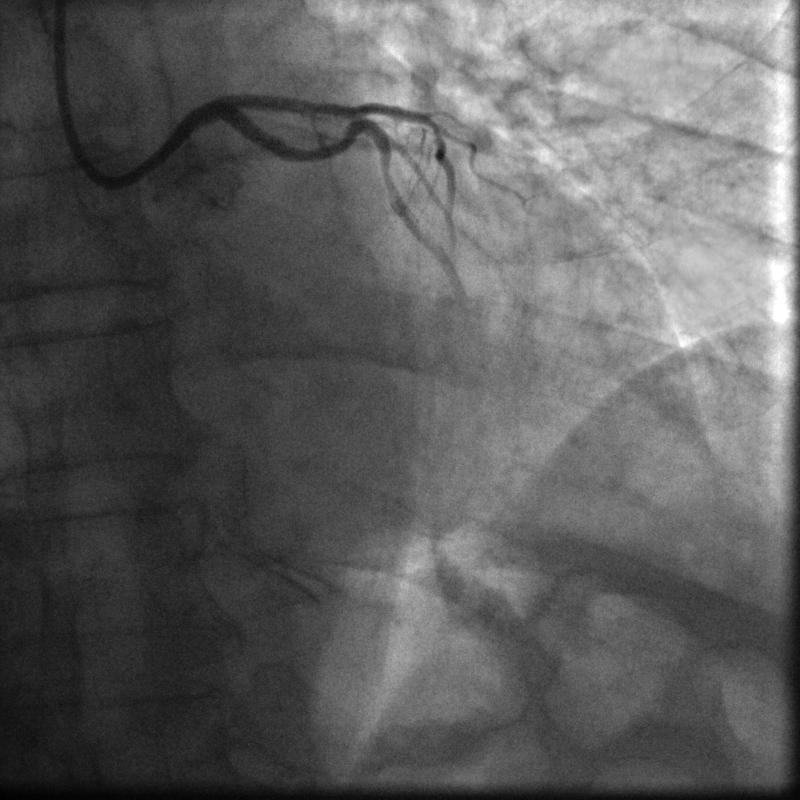Stenosis: (378, 164, 394, 181)
